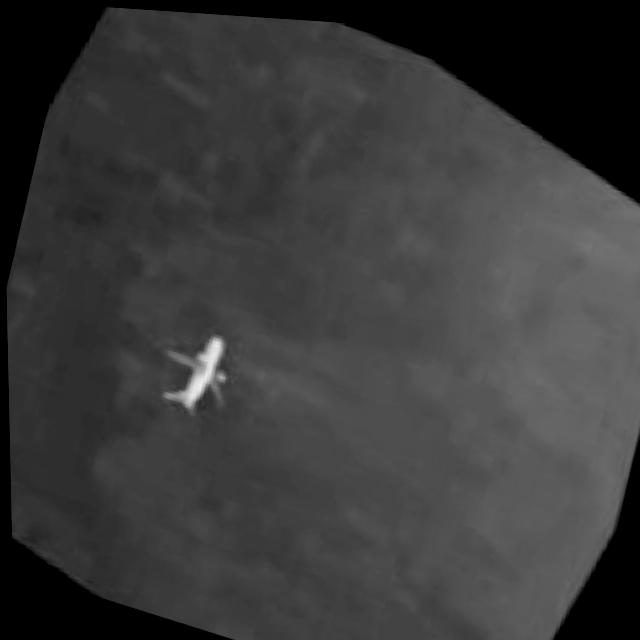aeroplane: (130, 289, 266, 440)
